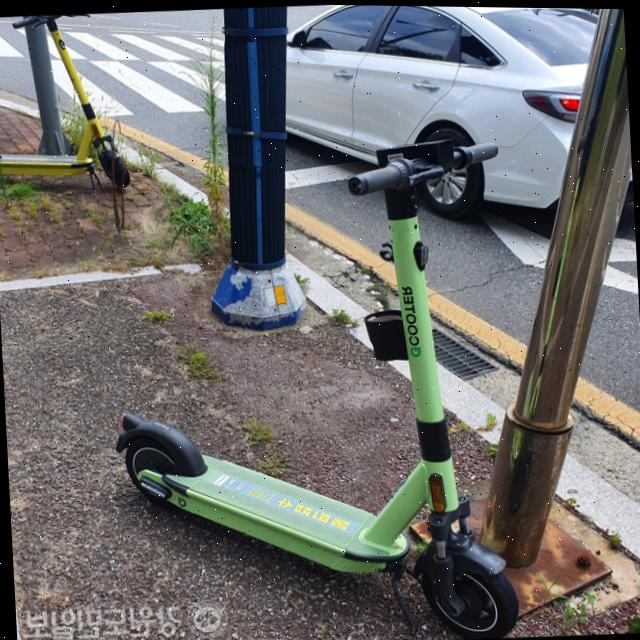crosswalk: (103, 7, 220, 125)
kickboard_no: (0, 11, 106, 205)
